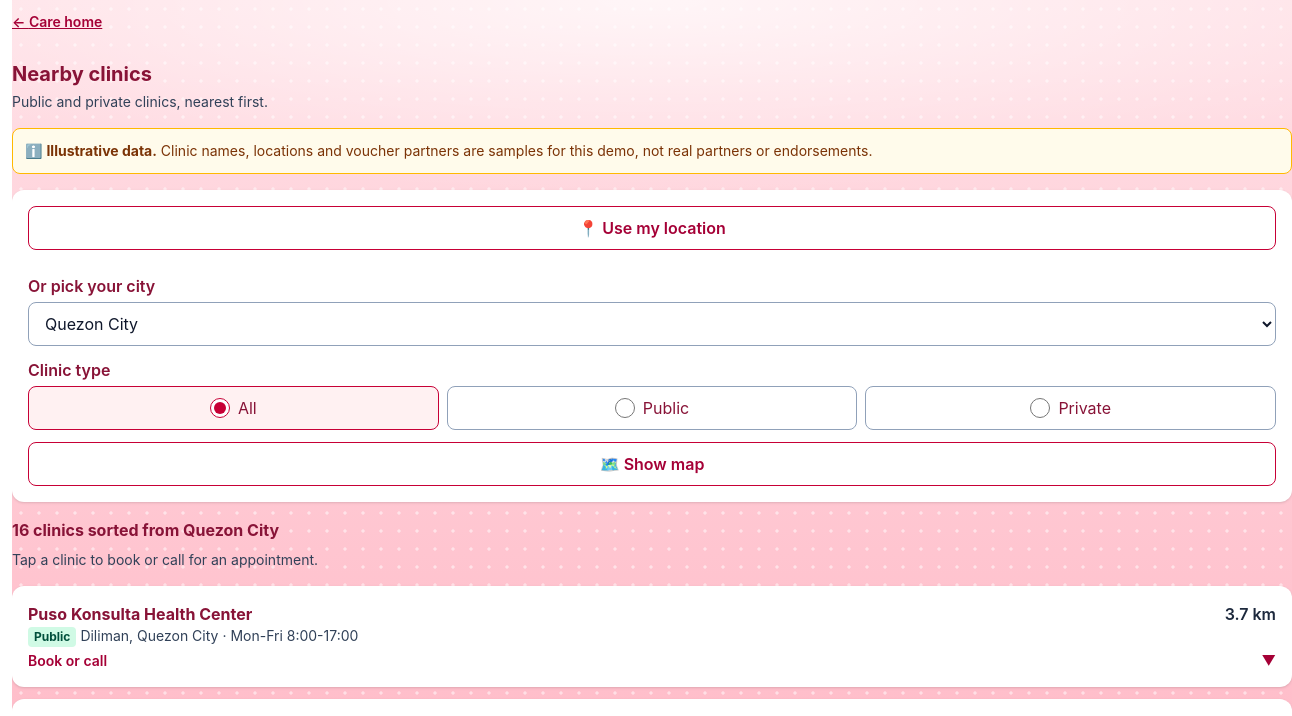
Test: clinic finder screen › sorts from the device location when granted
Click the button "📍 Use my location". click: [652, 228]
box: [28,206,1276,250]
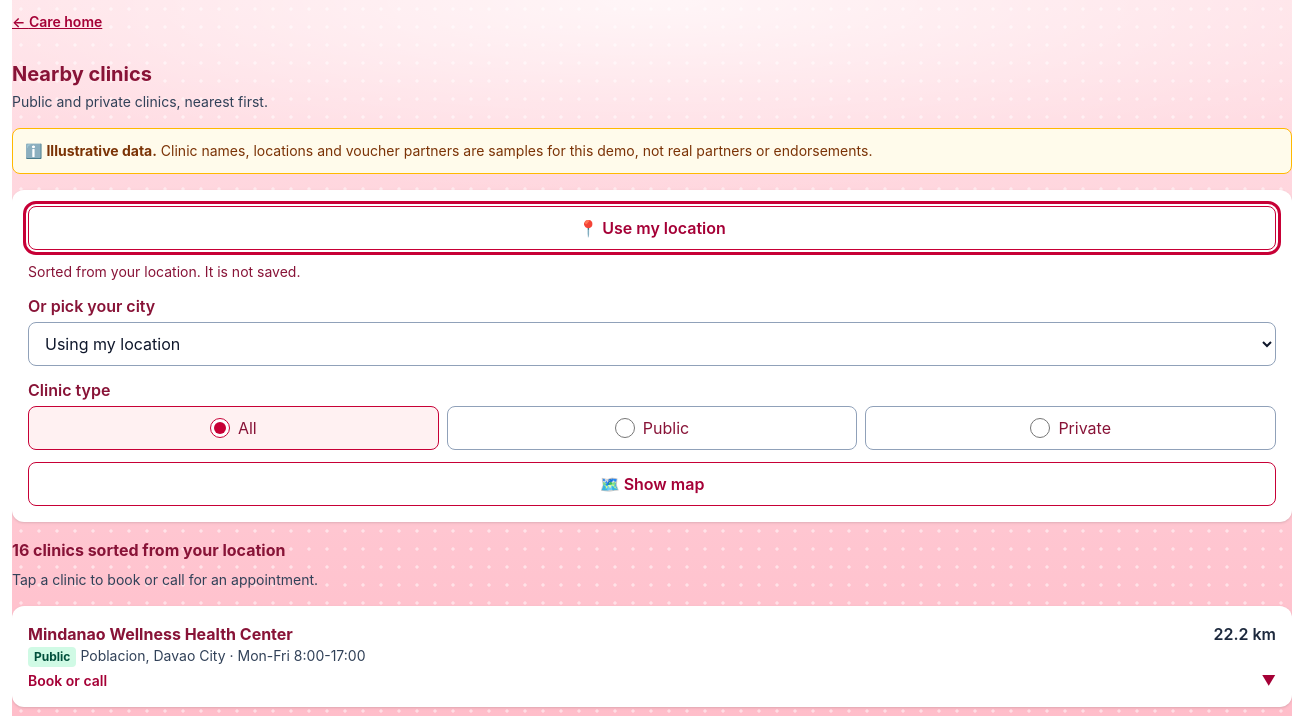
Expected: the text "Public Poblacion, Davao City · Mon-Fri 8:00-17:00" is shown, [28,647,366,667]
Expected: the heading "16 clinics sorted from your location" is shown, [12,540,286,560]
